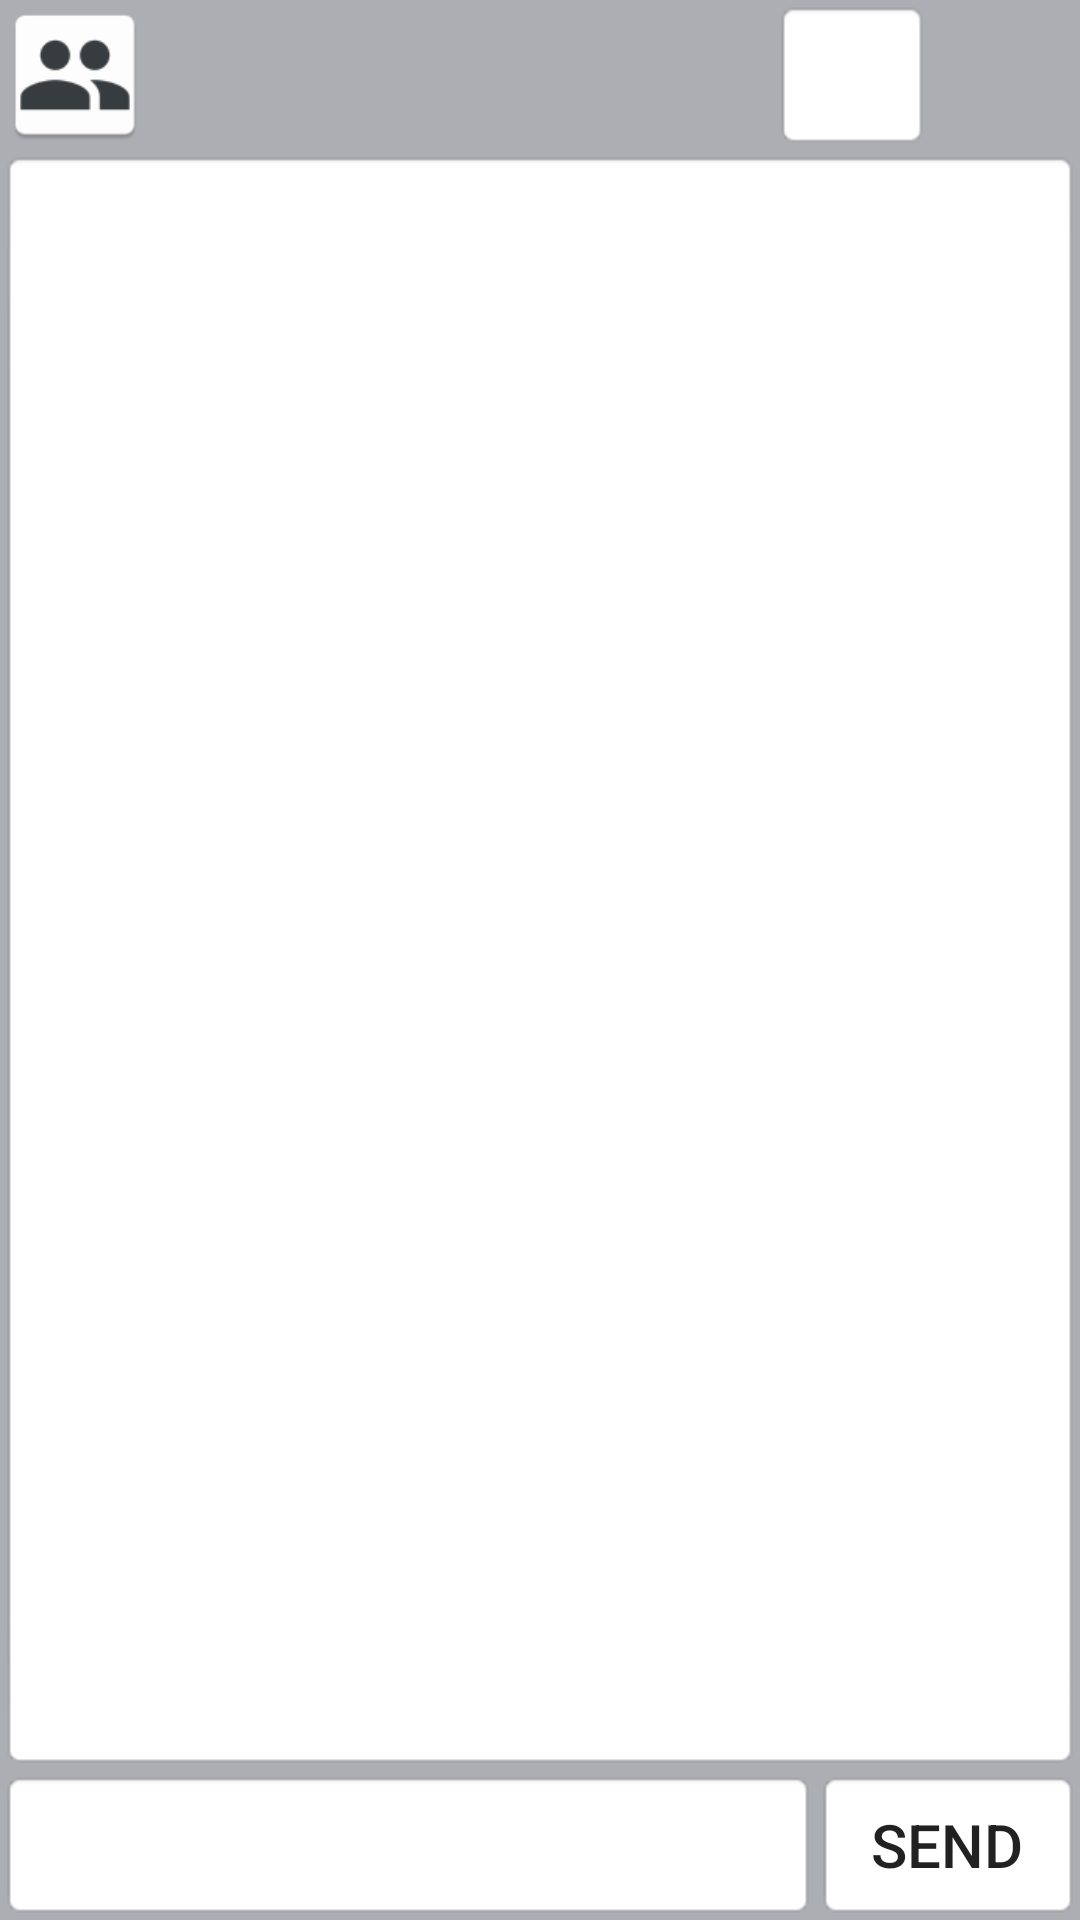

Where to tap for icons on this 1080*1920 app screen, as (x,y):
contact: (74,76)
